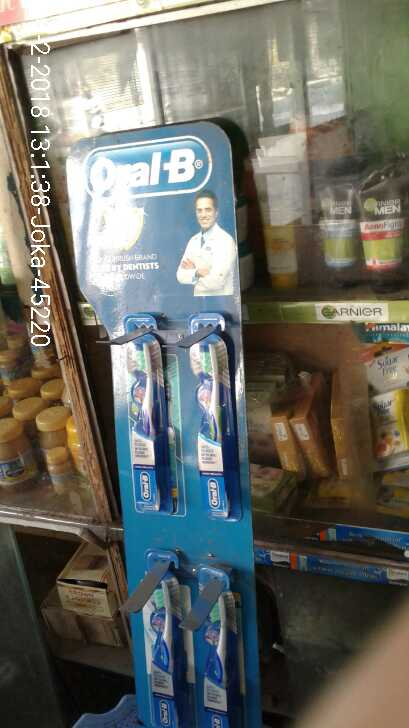oralb: (187, 307, 244, 526), (122, 306, 171, 509), (137, 550, 192, 728)
